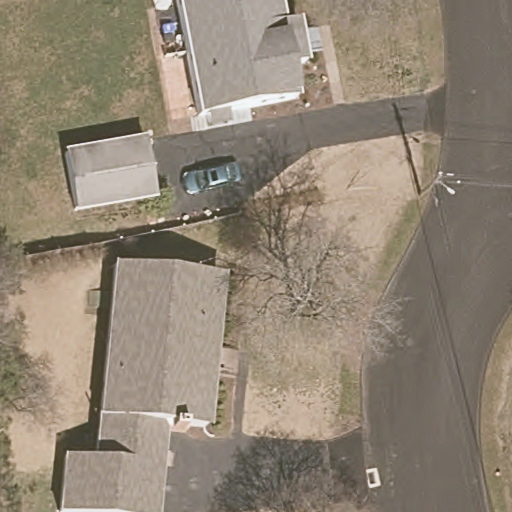DT: (419, 169, 455, 207)
